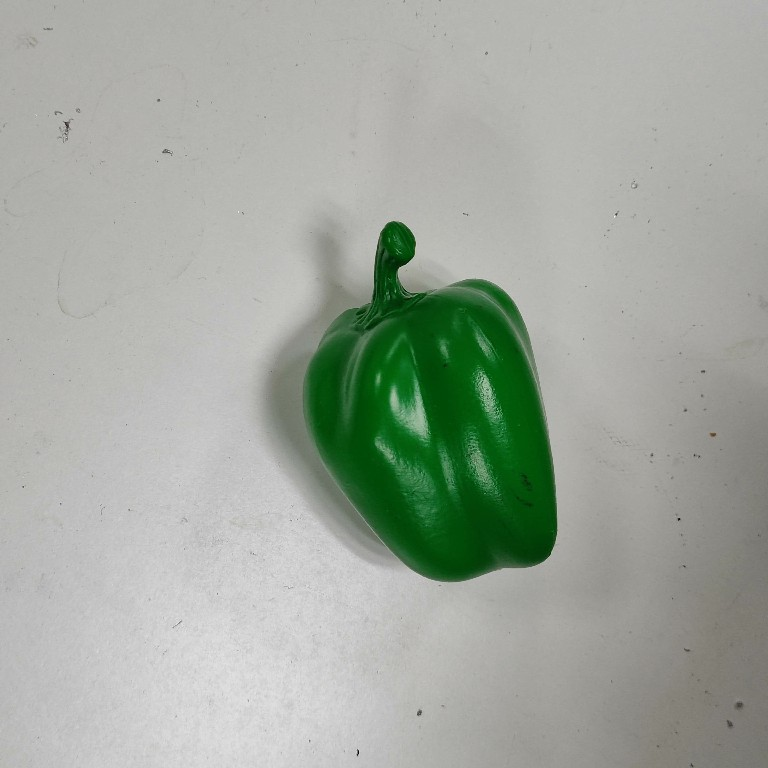fruit_pepper: (300, 217, 563, 585)
